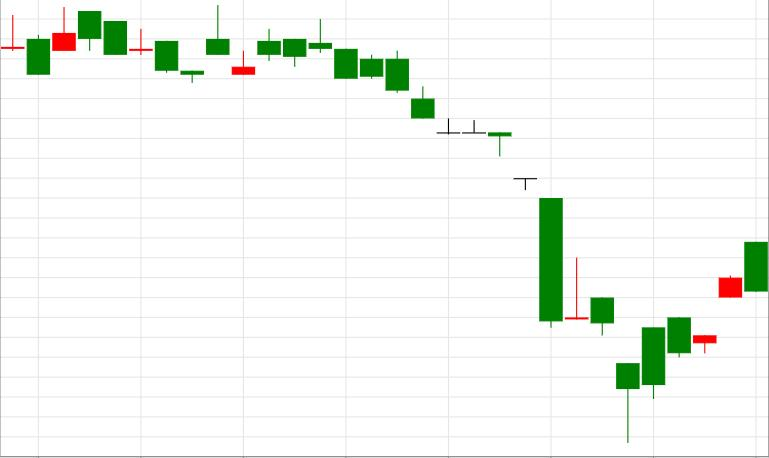hammer_rise: (309, 19, 639, 443)
